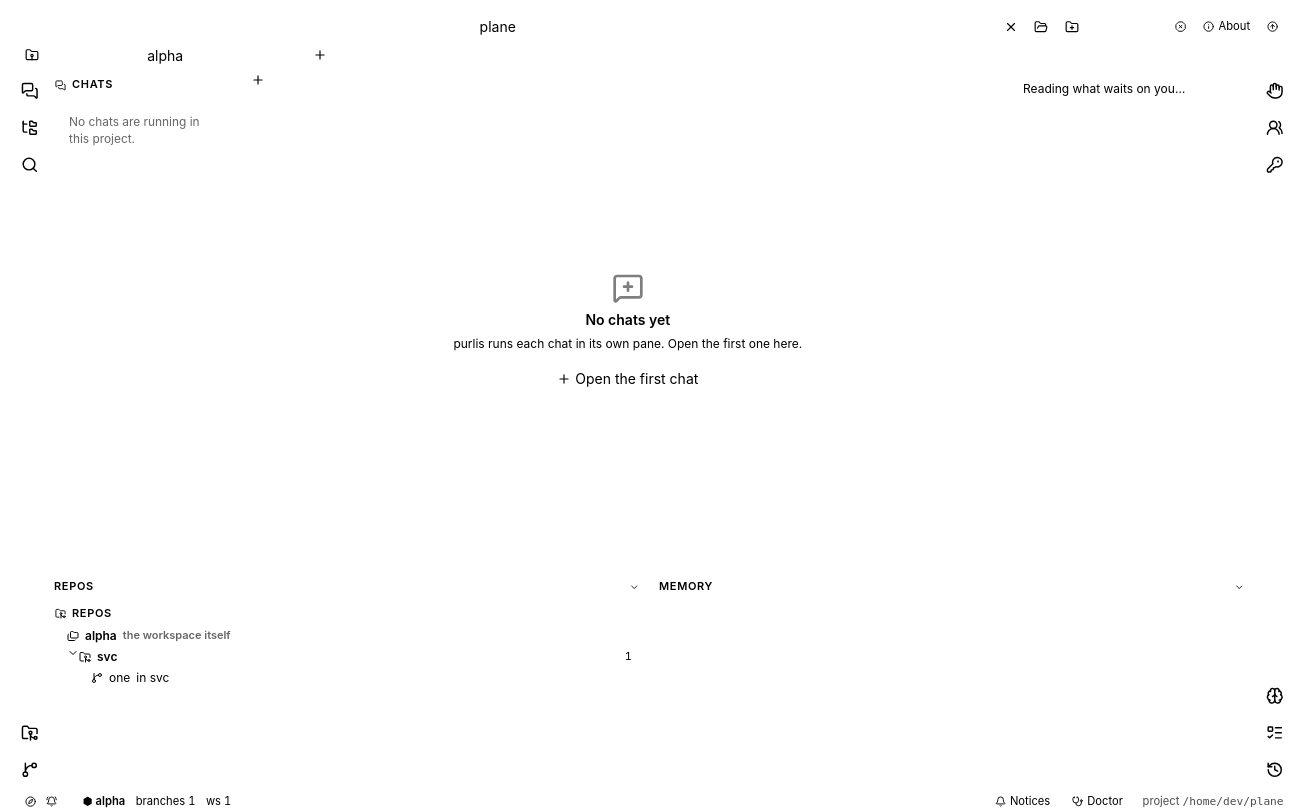
Scenario: a file or folder row's actions (FM-10) › says the core's refusal in its own words
Click the tab named "Explorer" at (30, 128), box [12, 110, 47, 145]
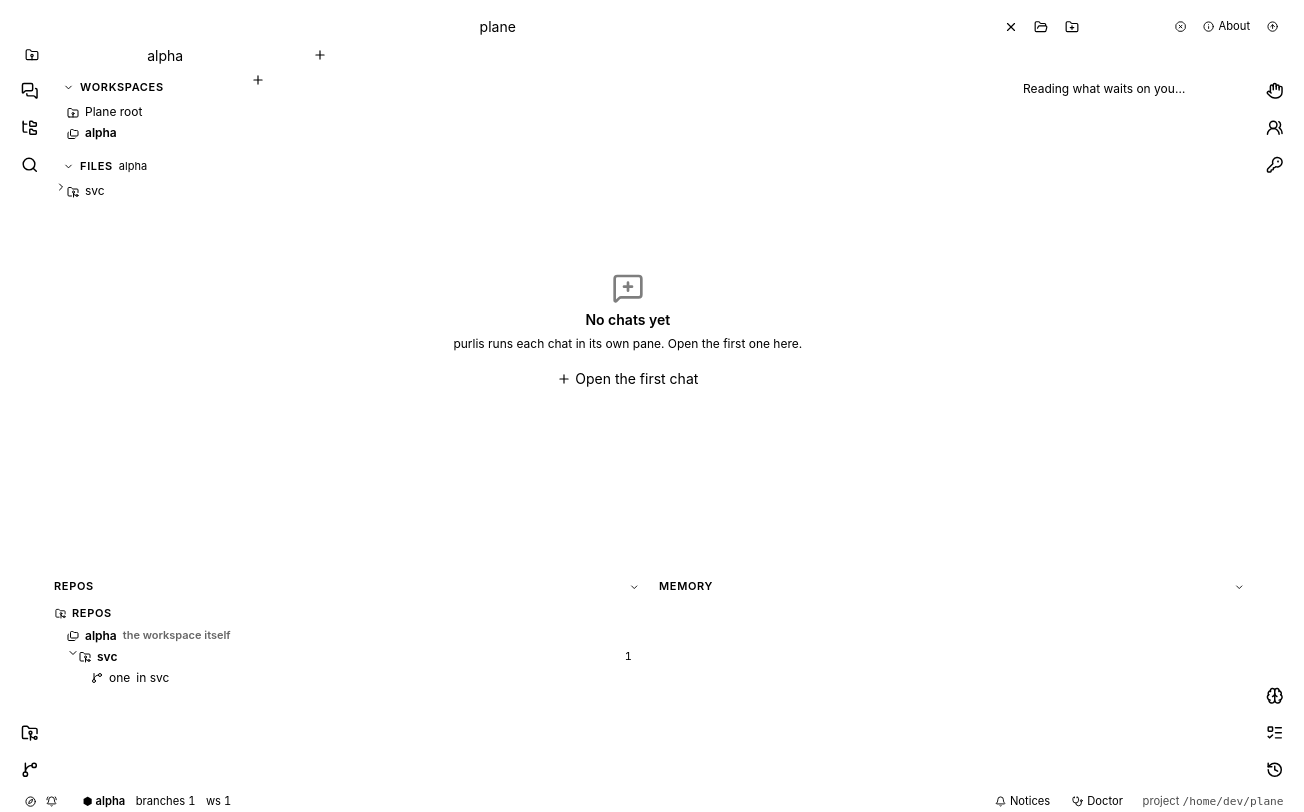
Click the list item "one in svc" at (97, 678), box [55, 668, 644, 688]
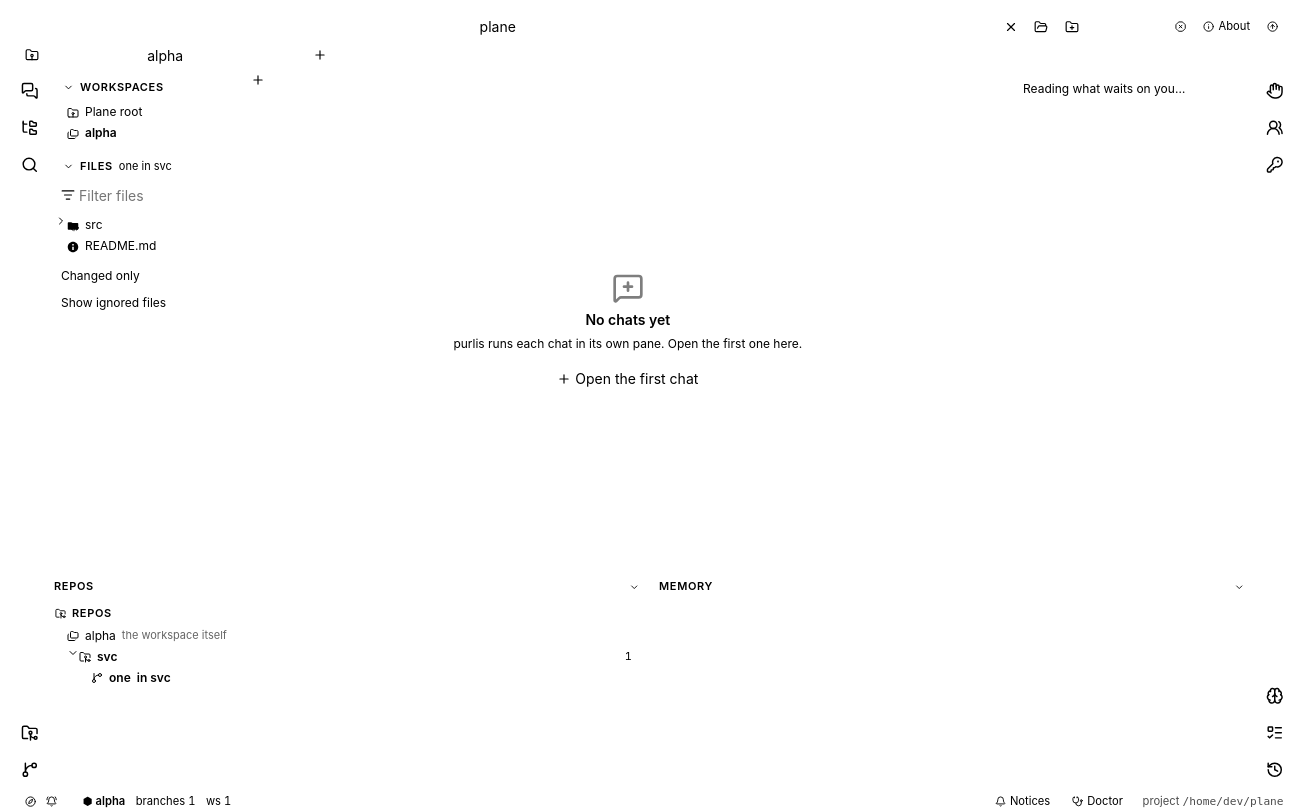
Right-click the list item "README.md" at (144, 247), box [55, 236, 233, 257]
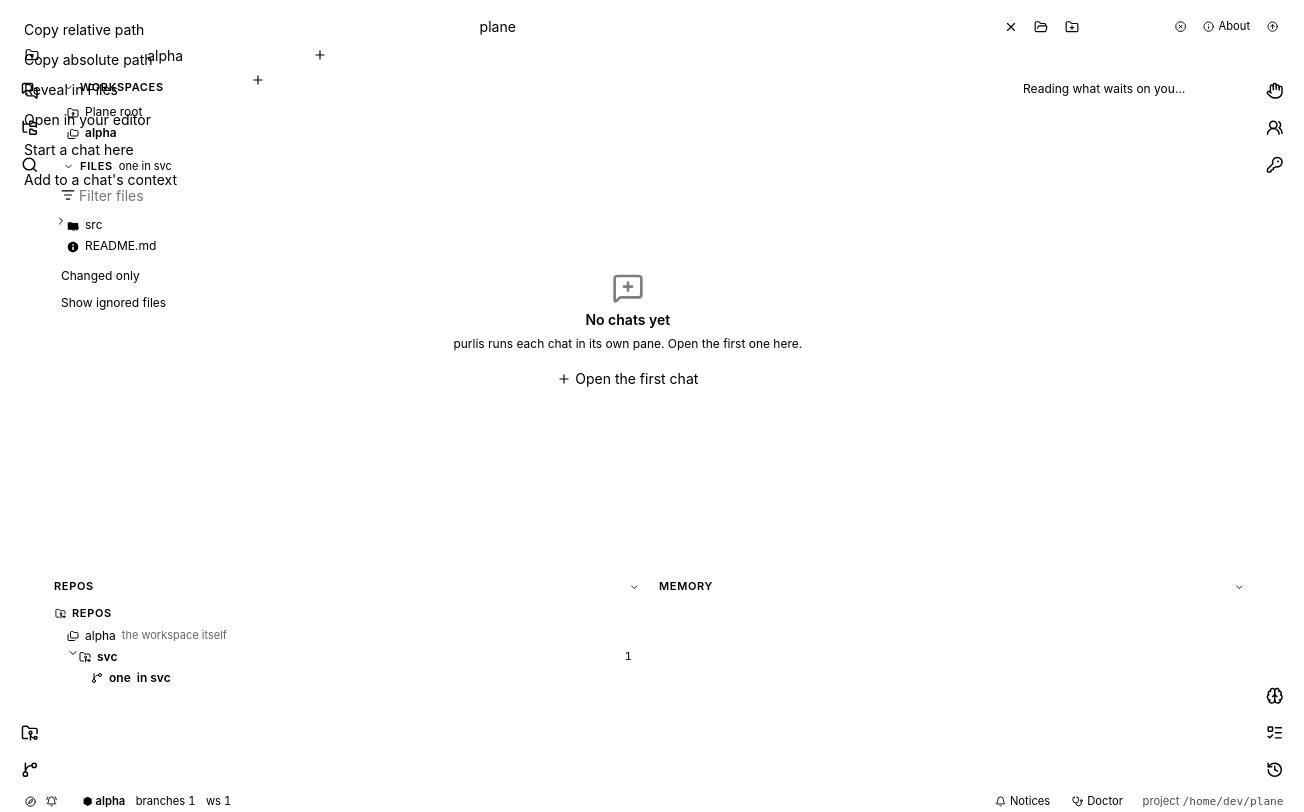
Click the menu item "Copy relative path" at (84, 30), box [24, 21, 144, 38]
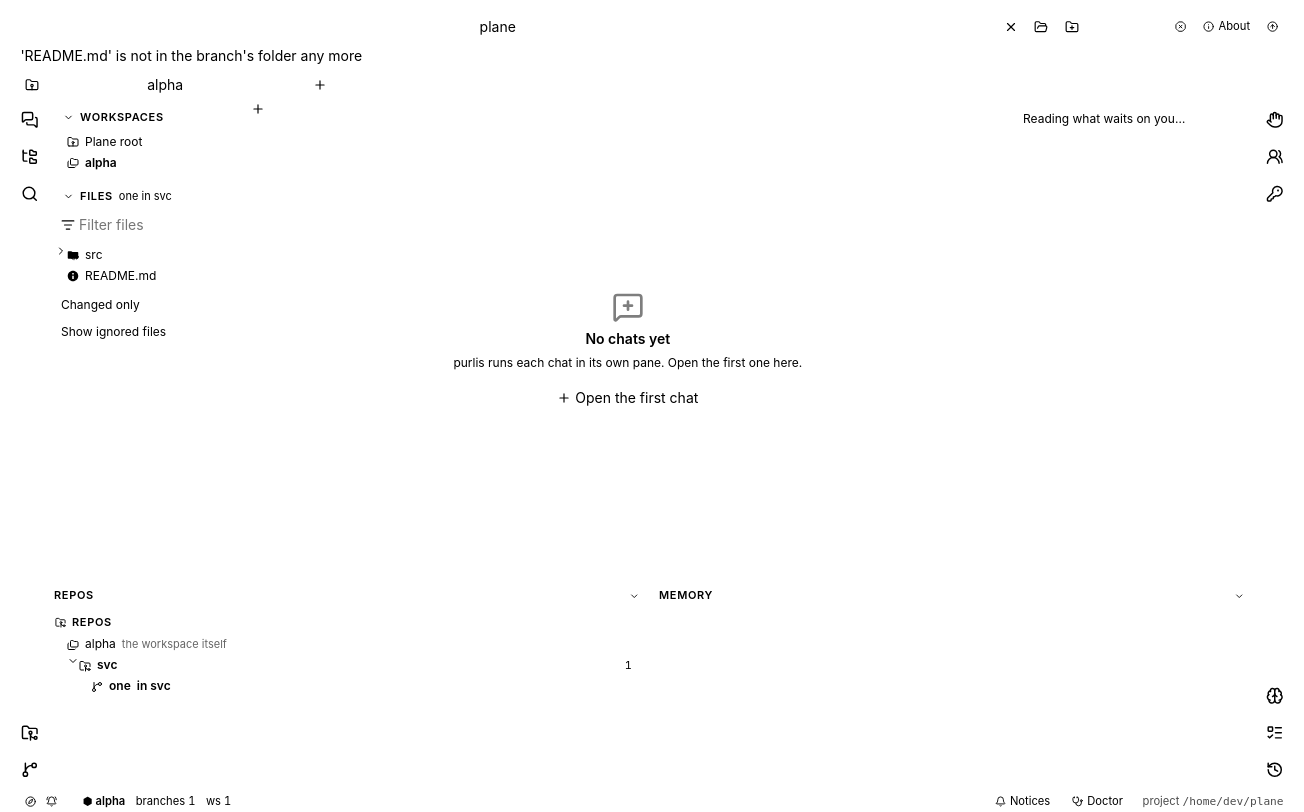
Expected: the text "'README.md' is not in the branch's folder any more" is shown, [20, 47, 362, 64]
